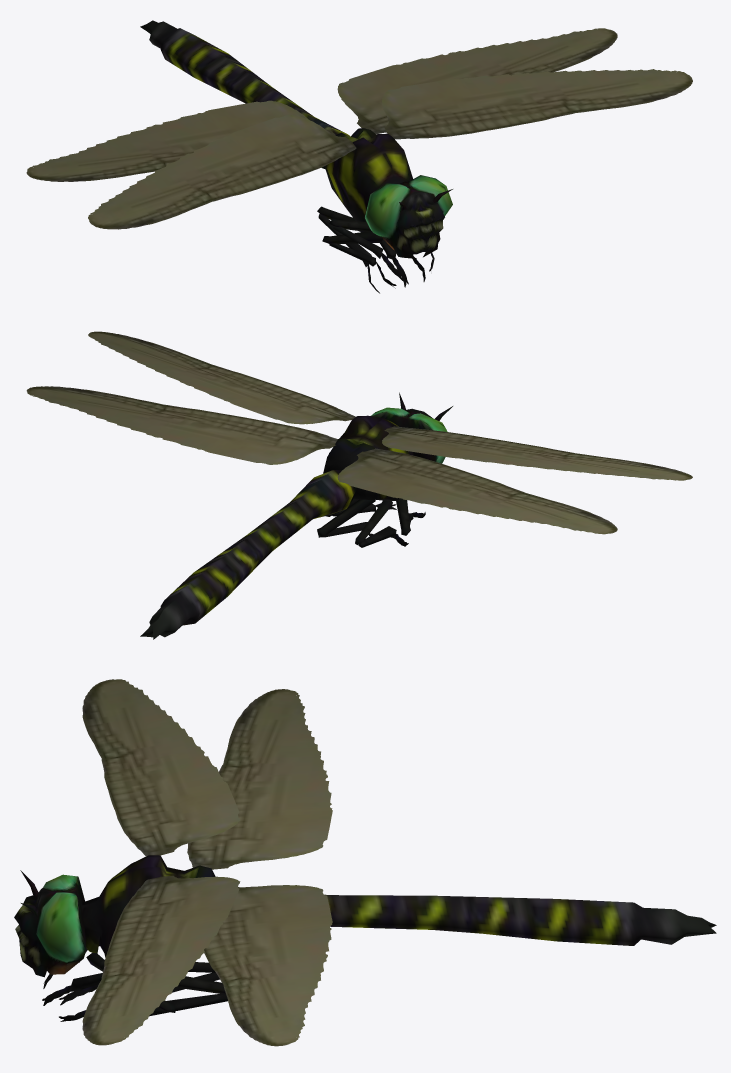
File: banded-dragonfly.glb
3 renders of one model, top to bottom at view 1: azimuth 30°, elevation 25°; view 2: azimuth 150°, elevation 25°; view 3: azimuth 270°, elevation 25°, orthographic. The views are drawn at different scales.
Size of the model in its own units: 7.54 by 1.78 by 5.94.
2 materials, 2 textured.
